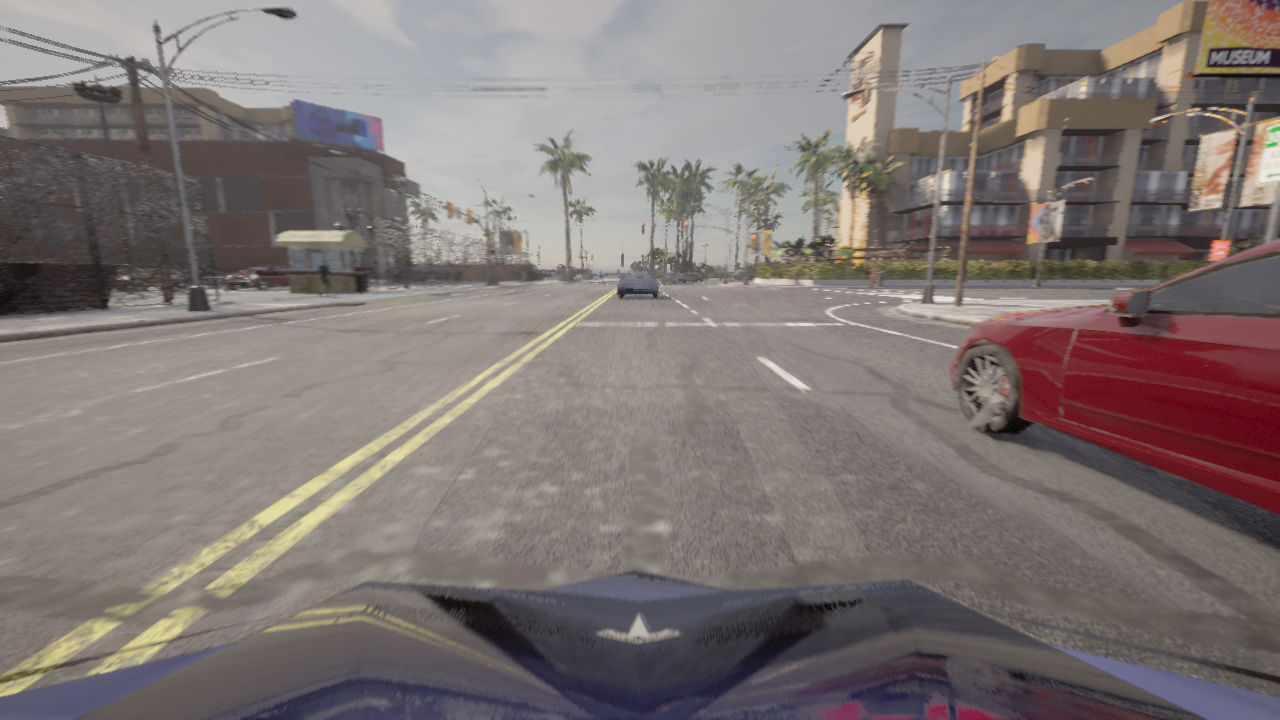cyclist: (0, 569, 1279, 719), (949, 239, 1279, 514), (225, 265, 290, 290), (114, 268, 187, 290), (618, 270, 658, 298), (408, 265, 462, 282), (202, 270, 240, 284), (117, 265, 157, 275), (683, 271, 707, 283), (728, 271, 754, 281), (179, 270, 201, 281), (662, 272, 682, 282)
pedestrian: (317, 257, 334, 297), (871, 264, 876, 285)
